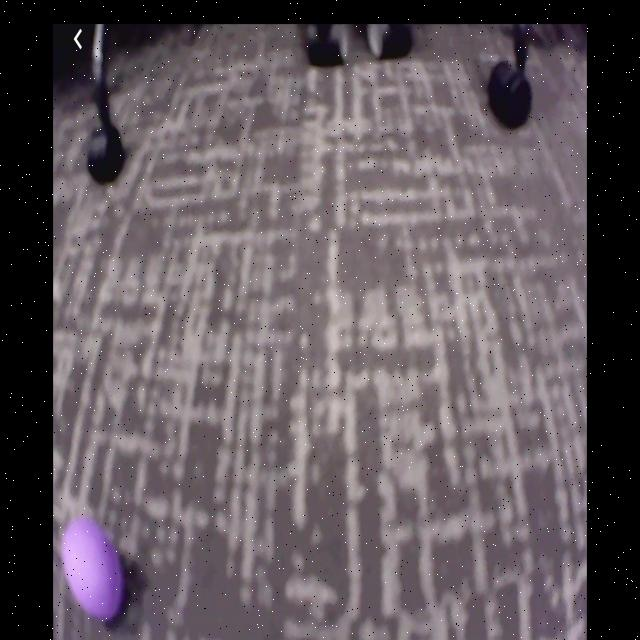ball: (62, 515, 124, 623)
